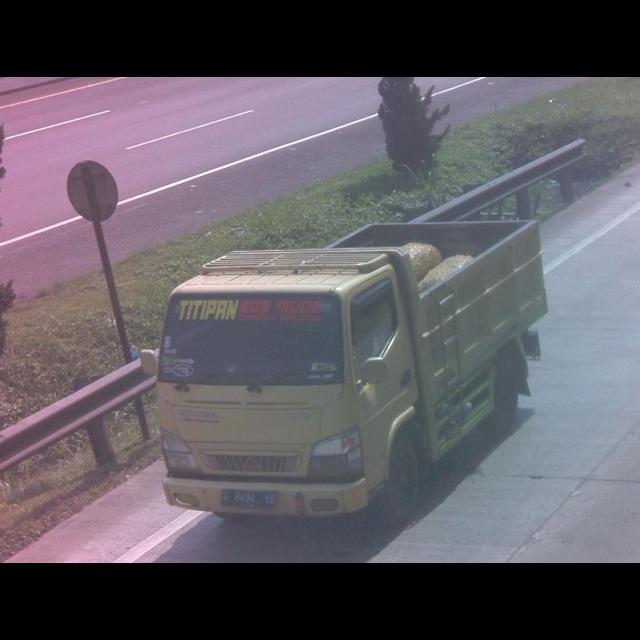plate: (218, 486, 278, 509)
